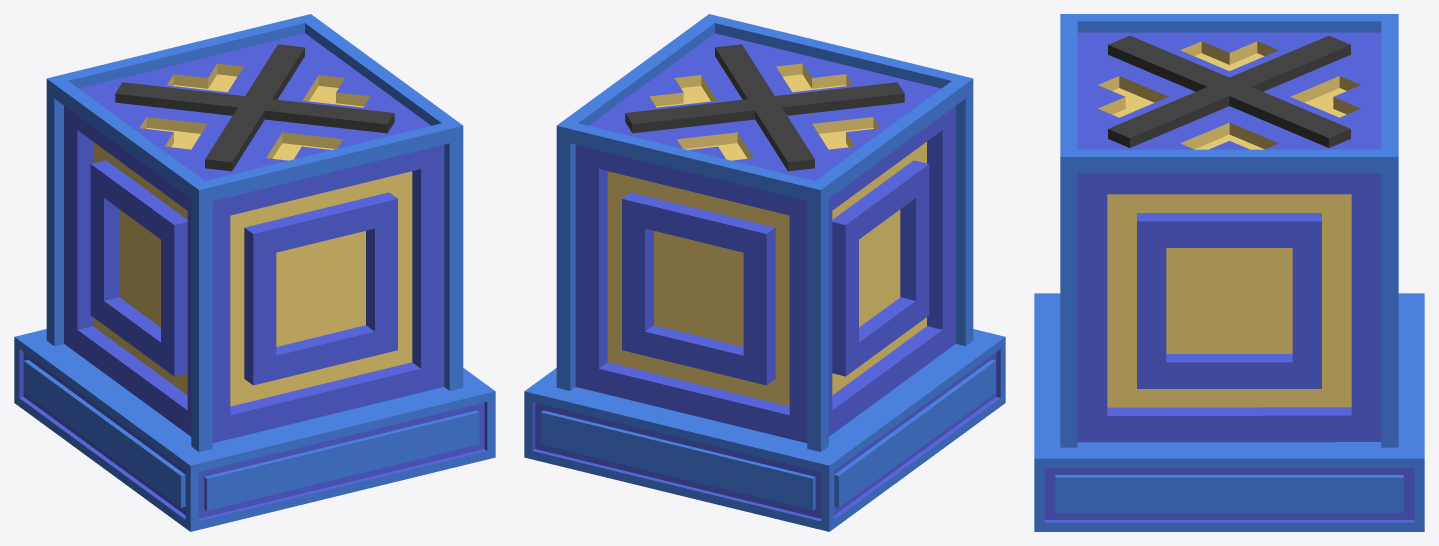
File: unmovable_block.fbx
3 renders of one model, left to right at view 1: azimuth 30°, elevation 25°; view 2: azimuth 150°, elevation 25°; view 3: azimuth 270°, elevation 25°, orthographic. The views are drawn at different scales.
Parts seen in each view (by area): view 1: Mesh; view 2: Mesh; view 3: Mesh.
Part boxes in pixels (bbox=[...]): Mesh: bbox=[14, 14, 495, 531]; Mesh: bbox=[524, 14, 1005, 531]; Mesh: bbox=[1034, 14, 1424, 531].
Bounding box in the file's own units: 0.9909 × 1.02 × 0.9909.
